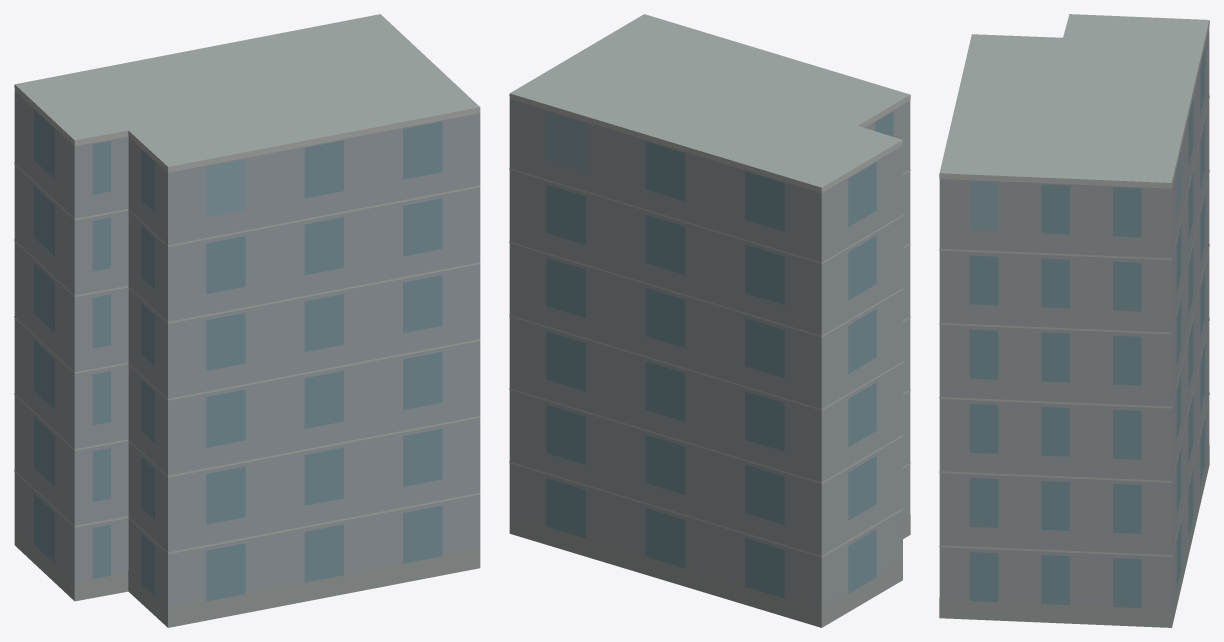
The model's file is survey-upis-32999500.glb.
The picture shows the model from 3 angles, left to right: view 1: azimuth 30°, elevation 25°; view 2: azimuth 150°, elevation 25°; view 3: azimuth 270°, elevation 25°; orthographic projection. The views are drawn at different scales.
Visible parts, largest first — view 1: survey-upis-32999500.tmp; view 2: survey-upis-32999500.tmp; view 3: survey-upis-32999500.tmp.
Part boxes in pixels (<box>): survey-upis-32999500.tmp: <box>14,14,480,627</box>; survey-upis-32999500.tmp: <box>509,14,910,627</box>; survey-upis-32999500.tmp: <box>939,14,1209,627</box>.
Size of the model in its own units: 15.75 by 19.3 by 10.64.
